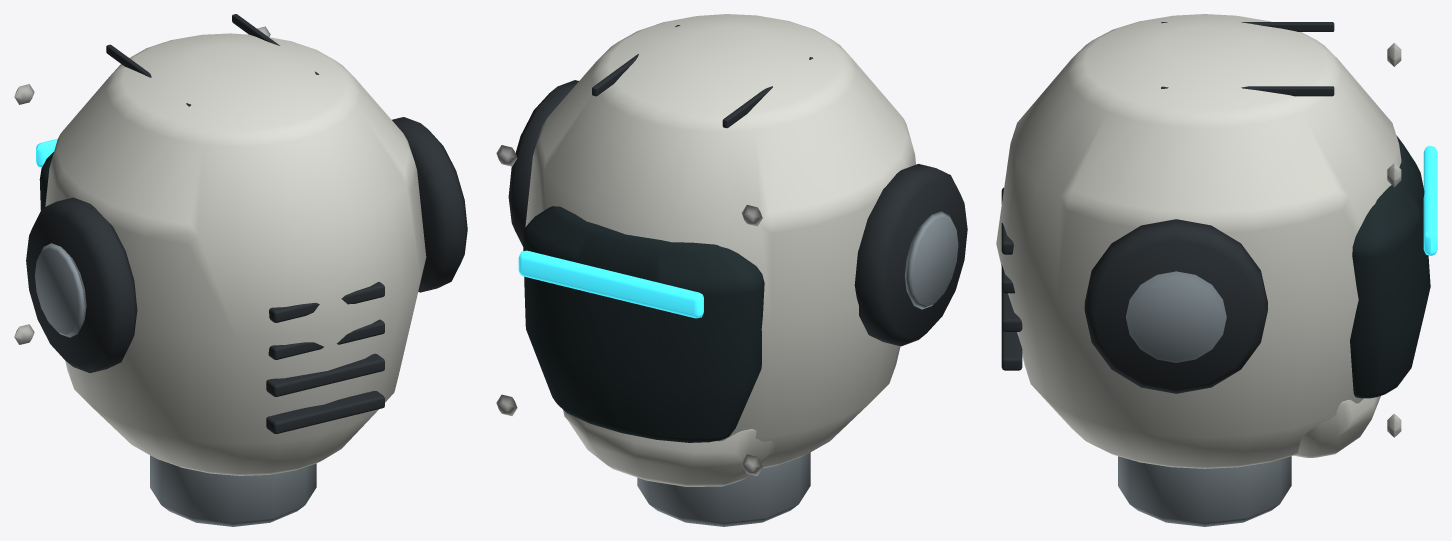
The model's file is heads_01.glb.
The picture shows the model from 3 angles, left to right: view 1: azimuth 30°, elevation 25°; view 2: azimuth 150°, elevation 25°; view 3: azimuth 270°, elevation 25°; orthographic projection. The views are drawn at different scales.
Visible parts, largest first — view 1: heads_01_Geometry; view 2: heads_01_Geometry; view 3: heads_01_Geometry.
Part boxes in pixels (x1,y1,x2,y2): heads_01_Geometry: (14, 14, 467, 526); heads_01_Geometry: (496, 14, 967, 526); heads_01_Geometry: (996, 14, 1437, 526).
Bounding box in the file's own units: 0.29 × 0.315 × 0.2795.
